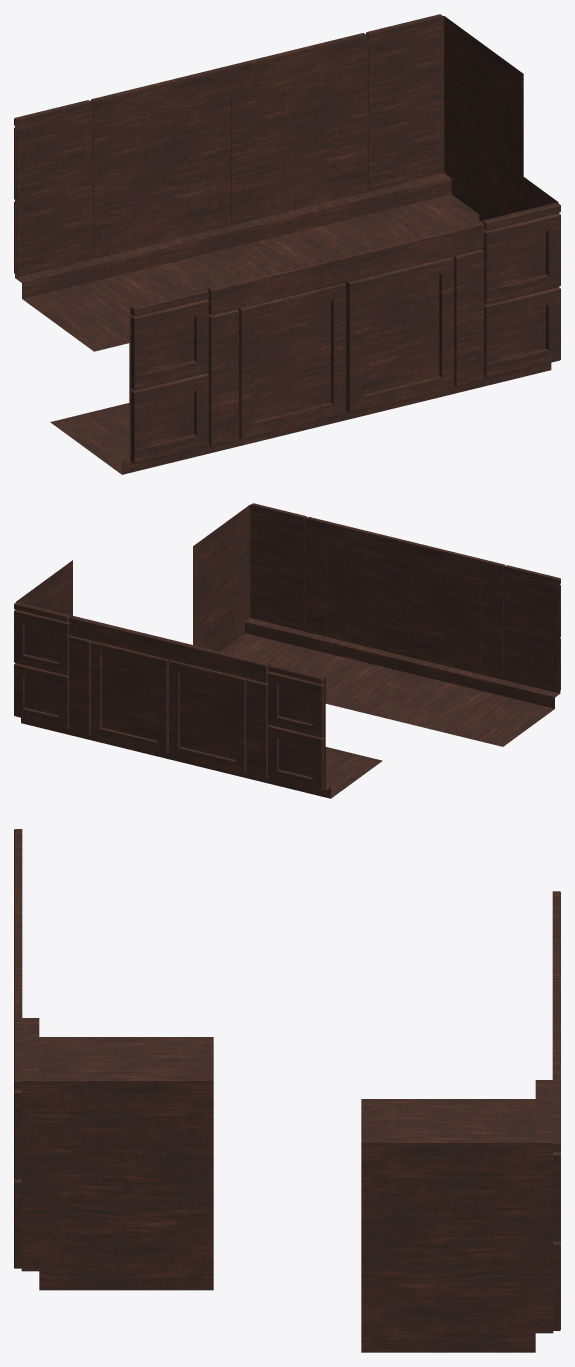
File: 2345_Bathroom_Cabinets_Espresso.gltf
3 renders of one model, top to bottom at view 1: azimuth 30°, elevation 25°; view 2: azimuth 150°, elevation 25°; view 3: azimuth 270°, elevation 25°, orthographic. The views are drawn at different scales.
Visible parts, largest first — view 1: Line23790; view 2: Line23790; view 3: Line23790.
Part boxes in pixels (x1,y1,x2,y2): Line23790: [14, 14, 560, 474]; Line23790: [14, 503, 560, 798]; Line23790: [14, 829, 560, 1352].
Bounding box in the file's own units: 3.56 × 1.1 × 2.6.
1 material, 1 textured.
